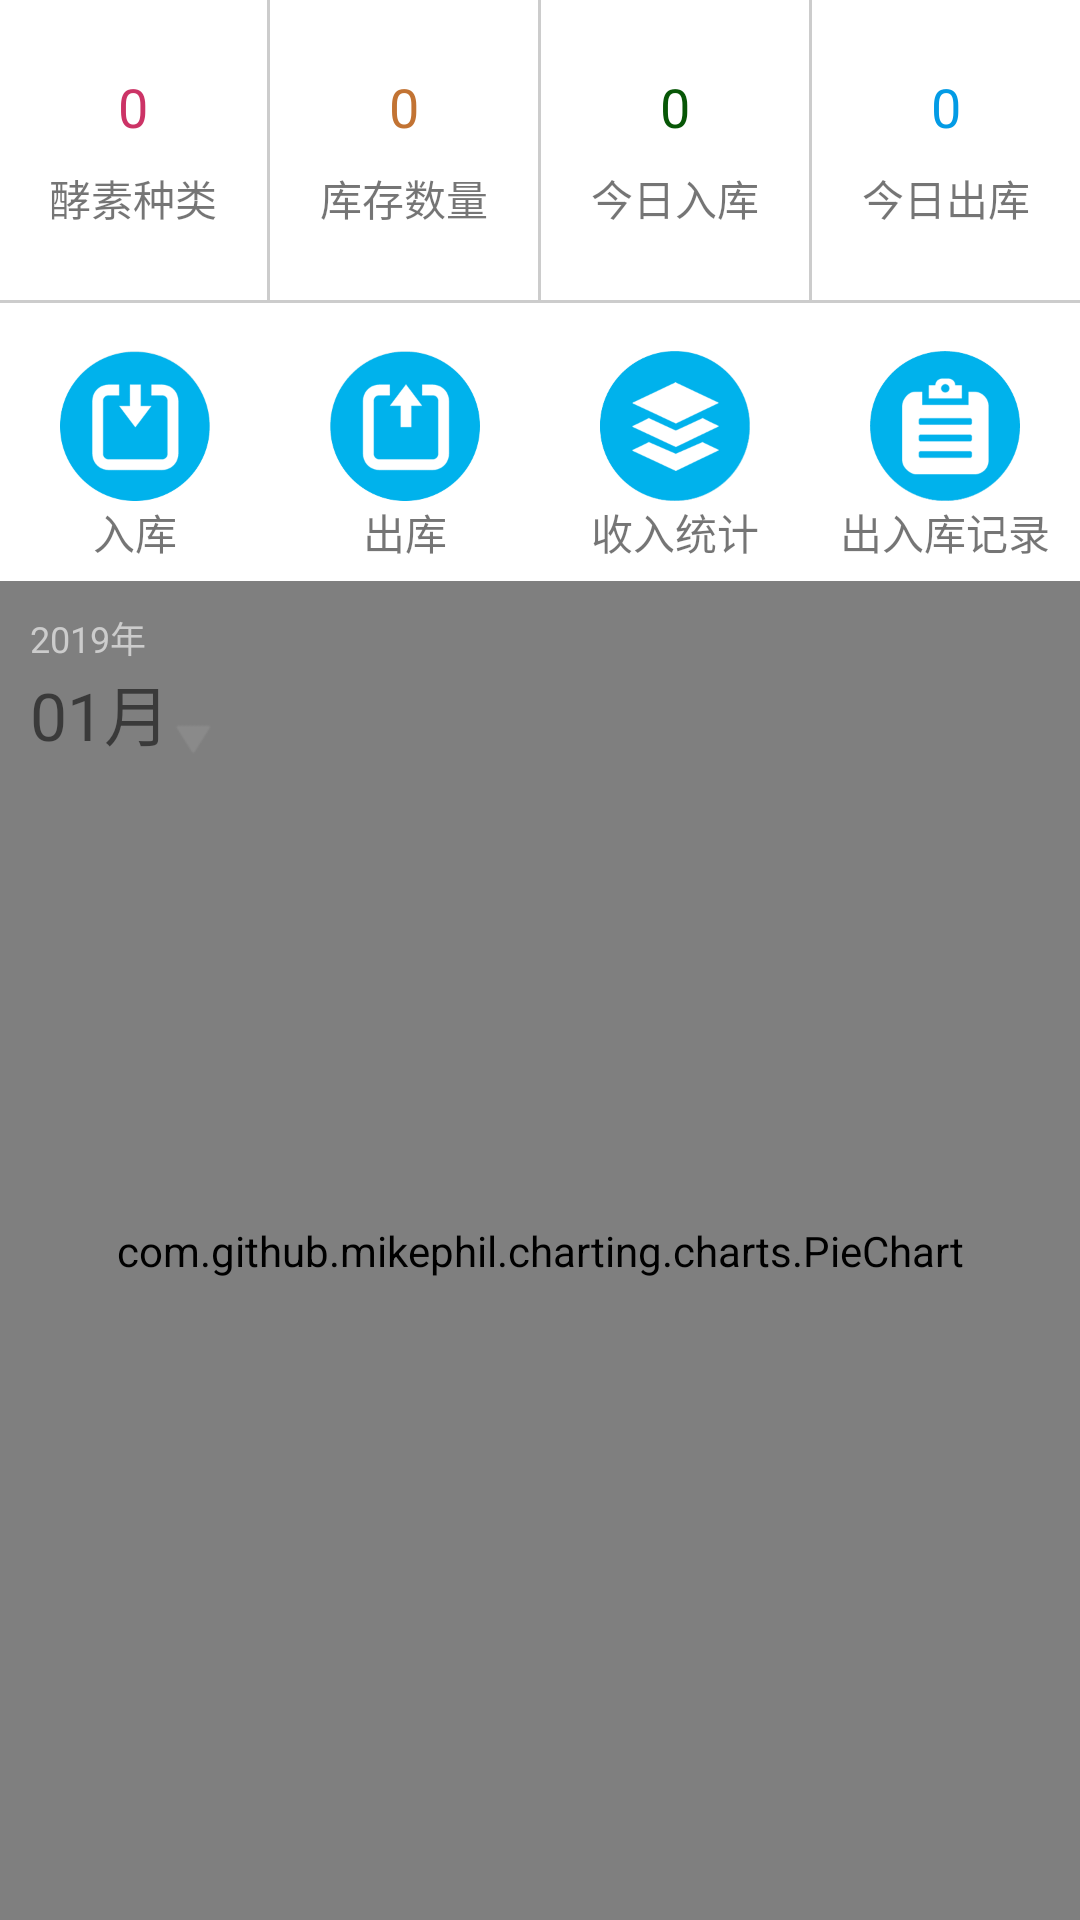

Icon click points for this 1080 x 1920 phone screenshot, format point (x, y):
storage: point (675, 426)
